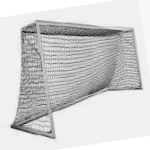goals: (7, 18, 144, 139)
